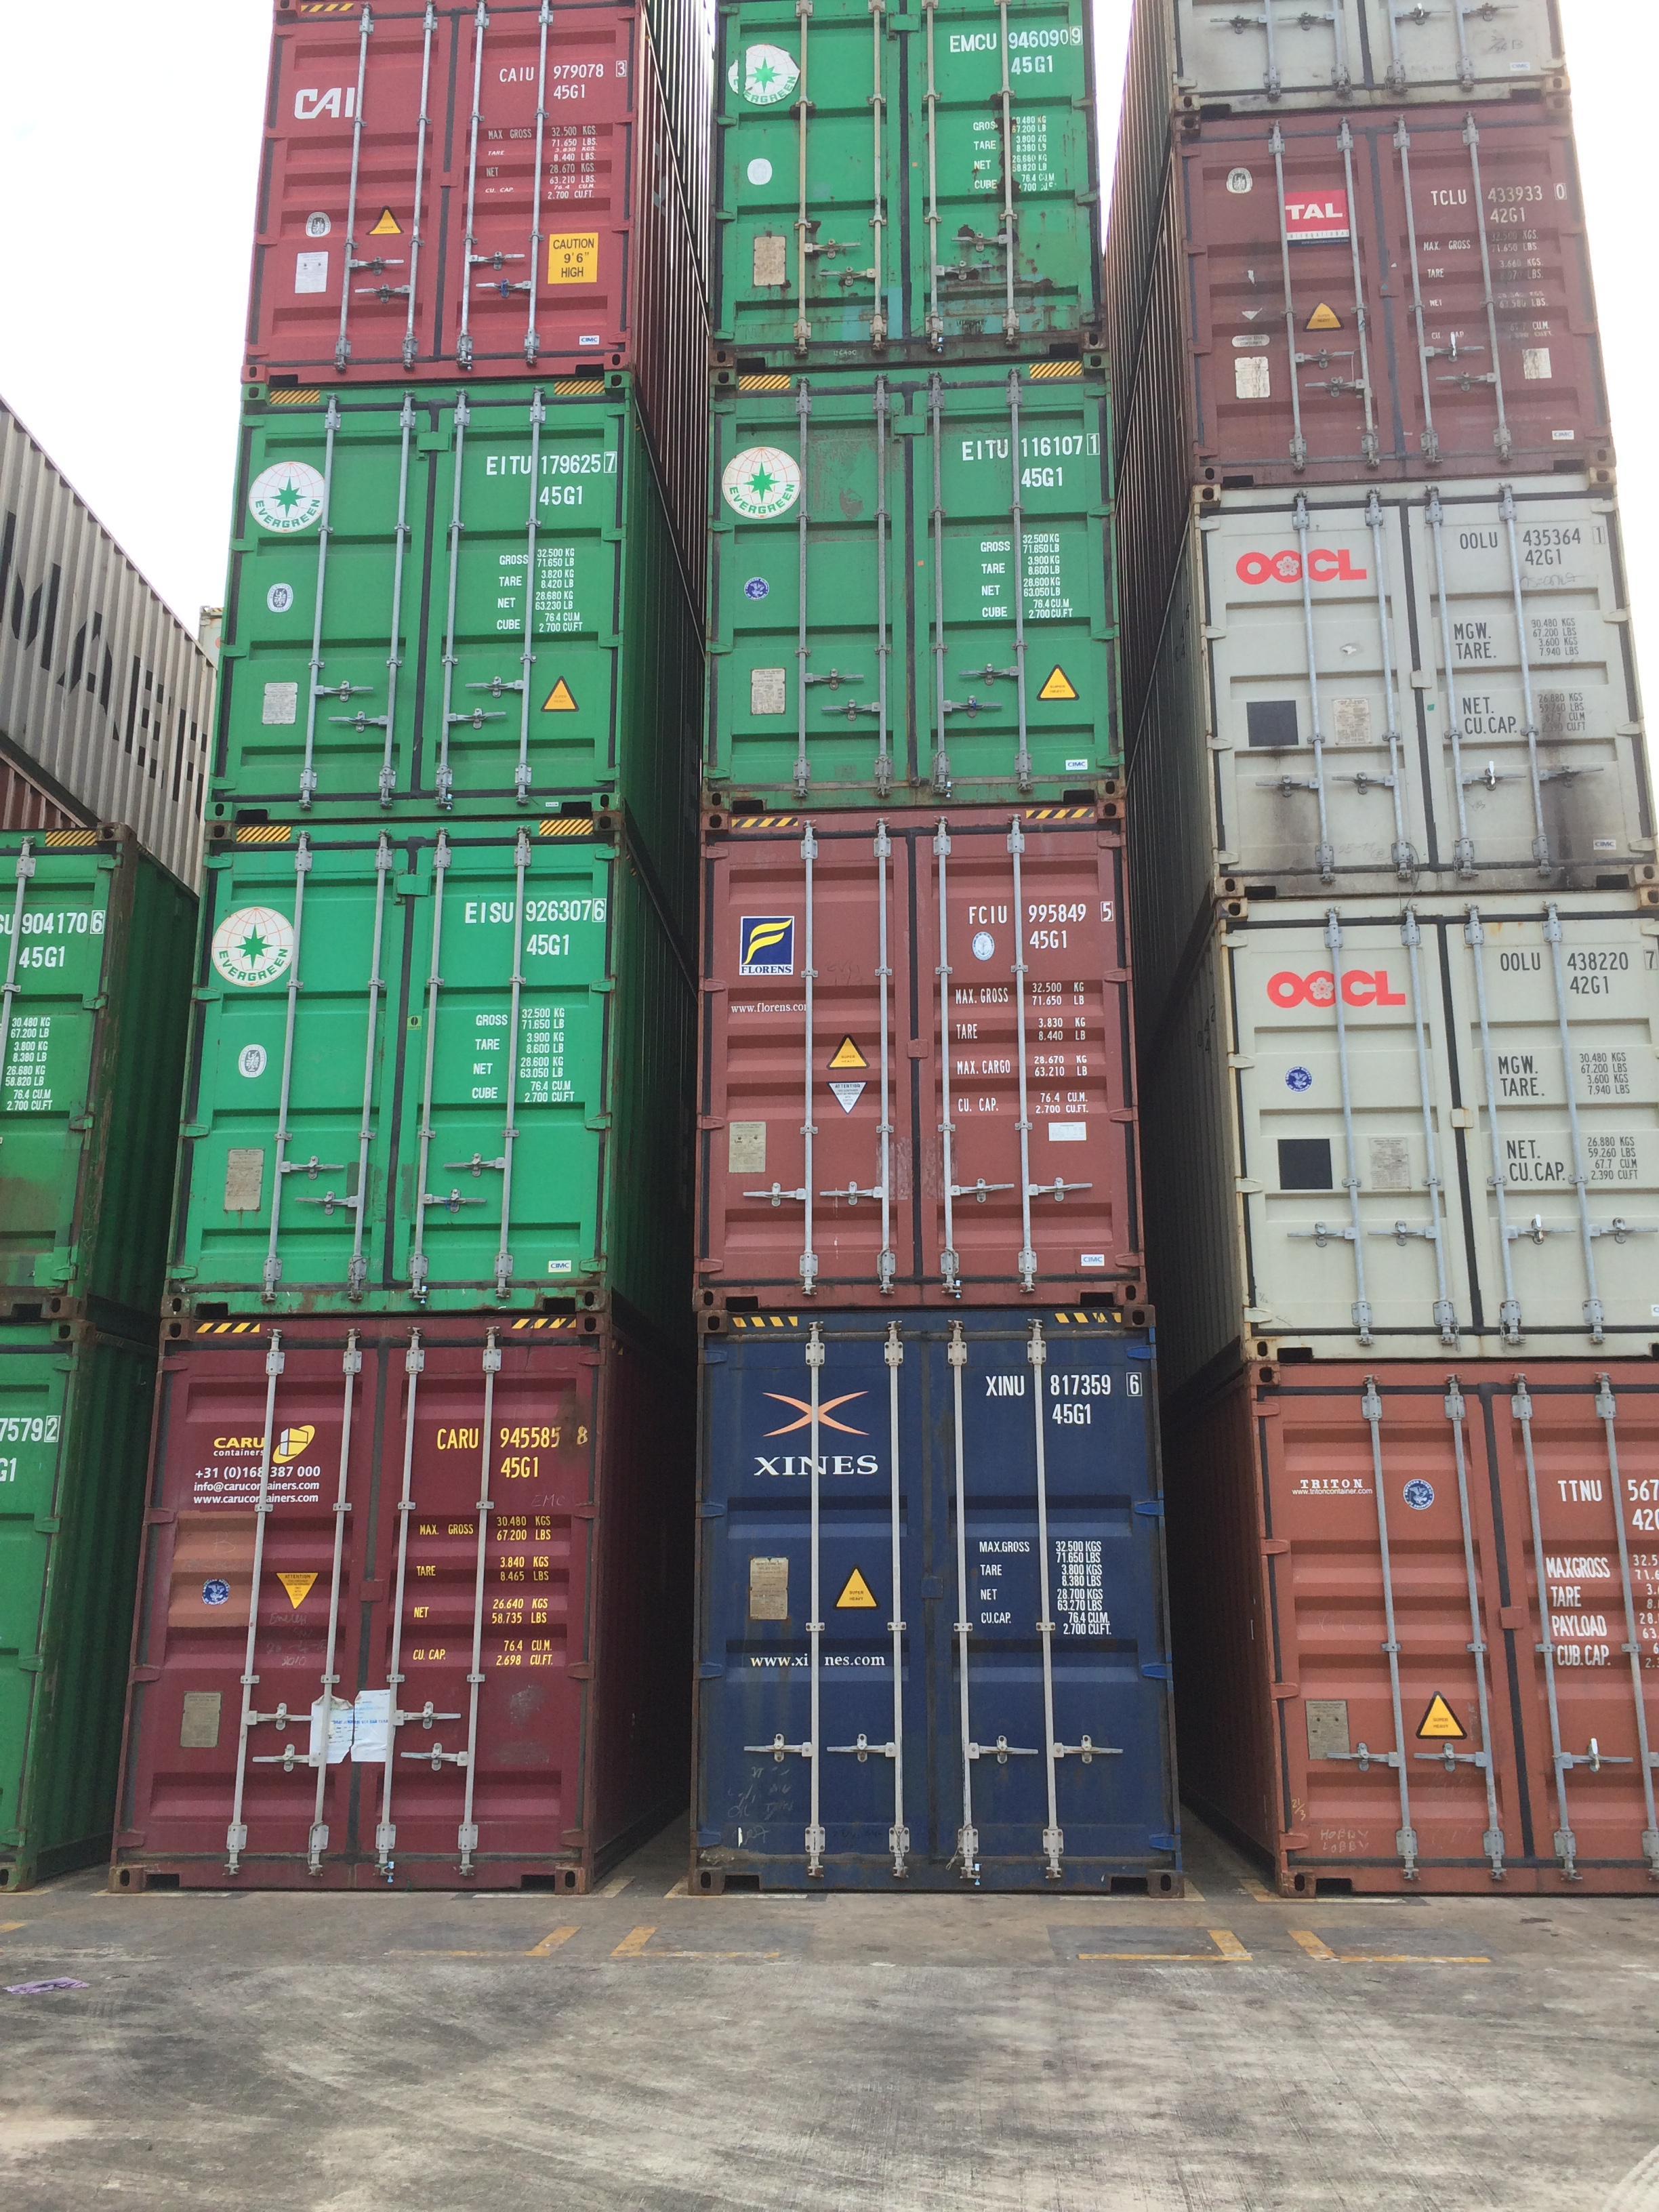container_door: (669, 1306, 1190, 1898), (96, 1327, 622, 1897), (162, 833, 626, 1320), (706, 803, 1141, 1310), (1249, 1371, 1659, 1888), (1232, 900, 1659, 1359), (204, 394, 645, 826), (711, 359, 1119, 801), (1164, 91, 1617, 484), (1206, 486, 1659, 880), (232, 7, 645, 388), (716, 0, 1098, 362)
